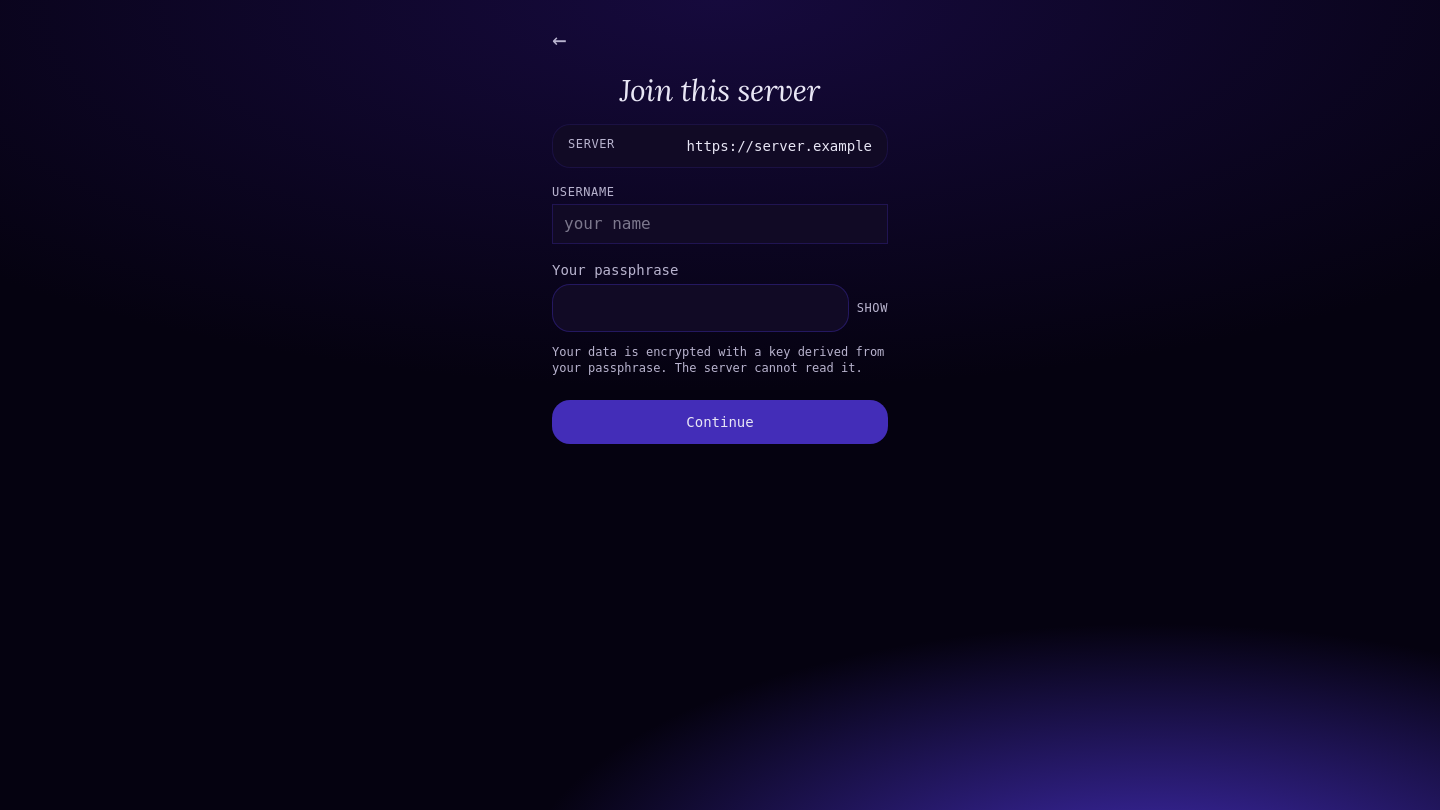
InvitationConfirm — suggested-username pre-fill (Bug 2) › live-sanitises uppercase and disallowed characters while typing
The image size is (1440, 810).
Step 1. Type "Chris!" into the field labelled "Username" → x=720, y=224, box [552, 204, 888, 244]
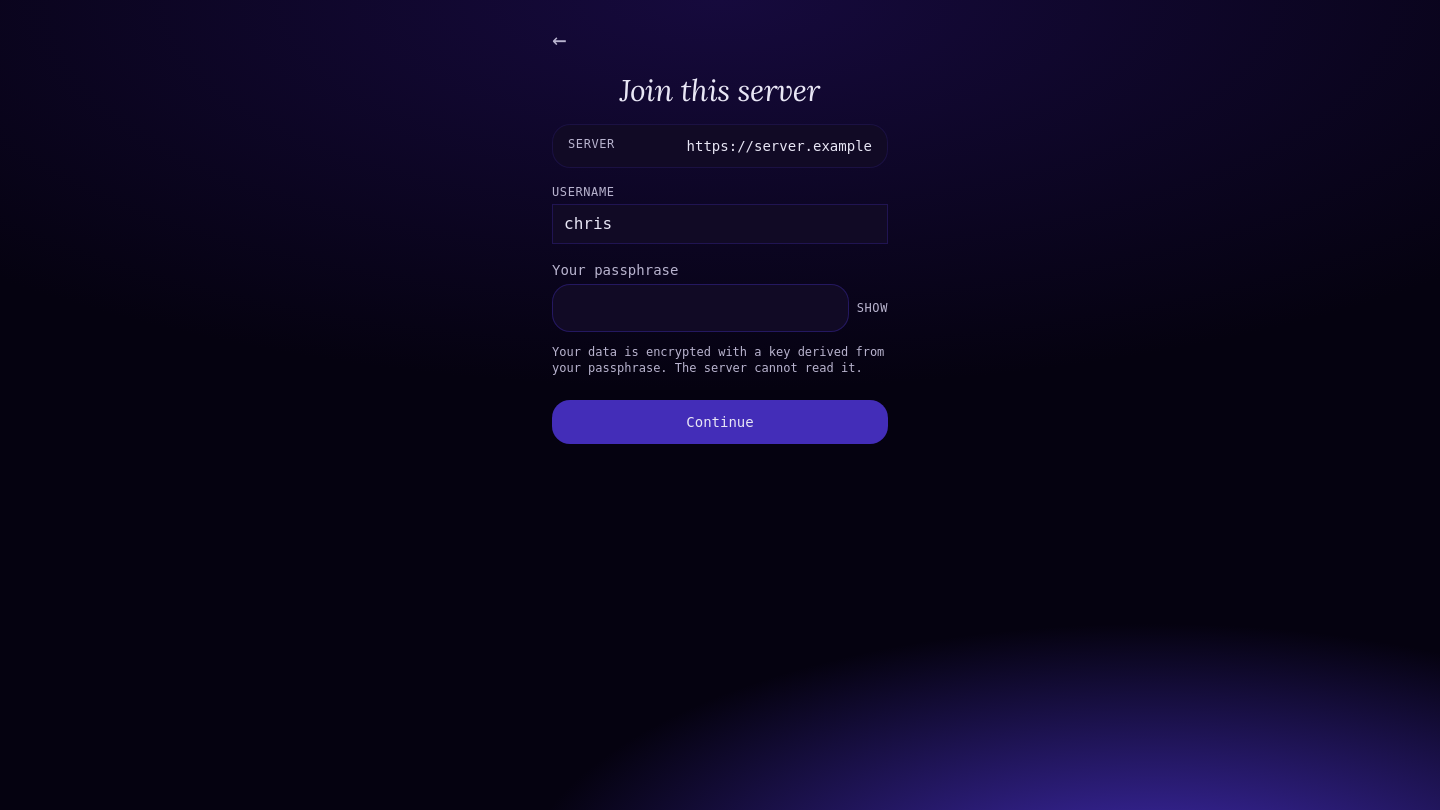
Now the field labelled "Username" holds "chris", box [552, 204, 888, 244]
